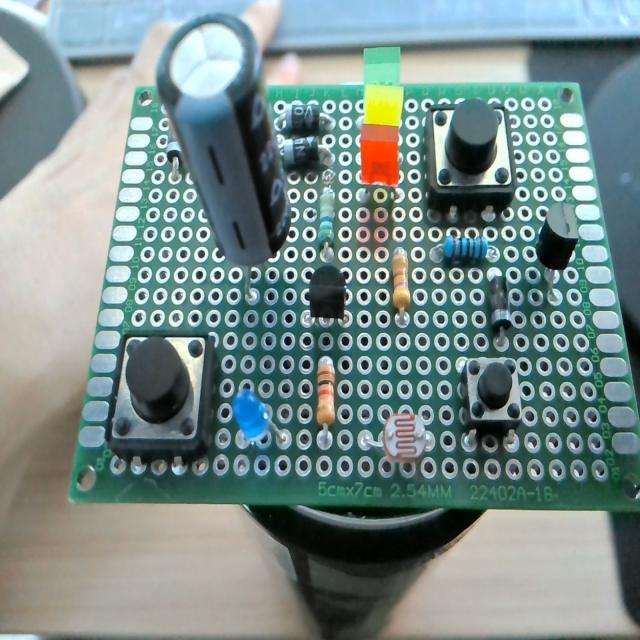Electrolytic capacitor: (157, 16, 287, 266)
cds: (361, 409, 433, 463)
diode: (278, 102, 324, 136), (278, 136, 320, 170), (488, 274, 511, 336), (166, 139, 183, 173)
led: (233, 388, 289, 446), (359, 123, 402, 186), (363, 84, 403, 128), (362, 46, 400, 90)
resistor: (444, 234, 492, 264), (316, 356, 335, 427), (391, 246, 410, 316), (319, 184, 335, 251)
switch: (104, 332, 217, 462), (424, 98, 517, 218), (459, 356, 522, 439)
transistor: (535, 201, 579, 298), (308, 264, 346, 322)
